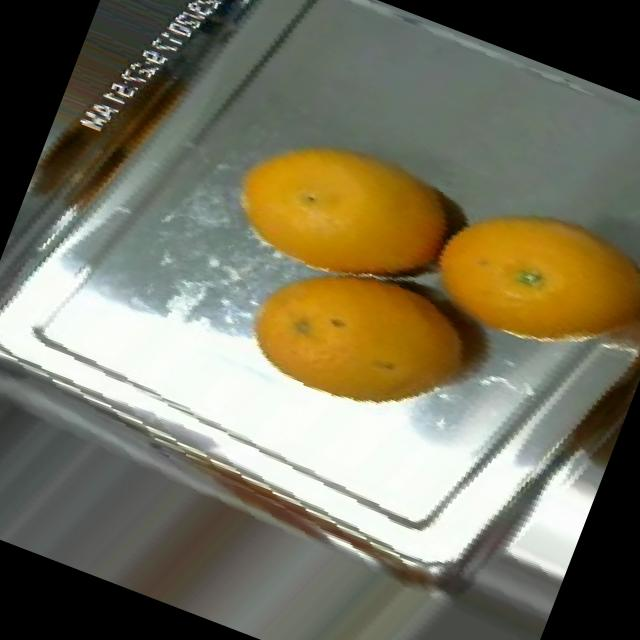Fruit: (198, 94, 440, 314)
